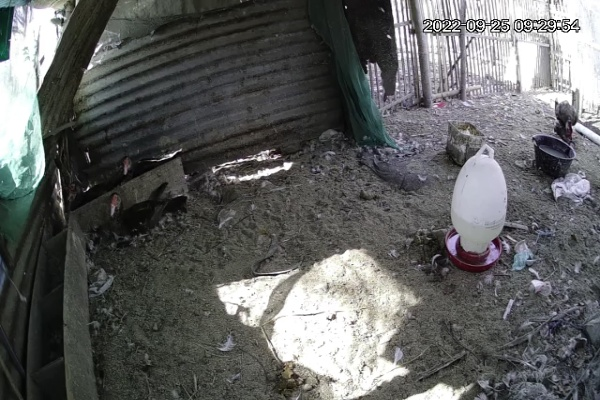Kawin: (546, 84, 584, 158)
